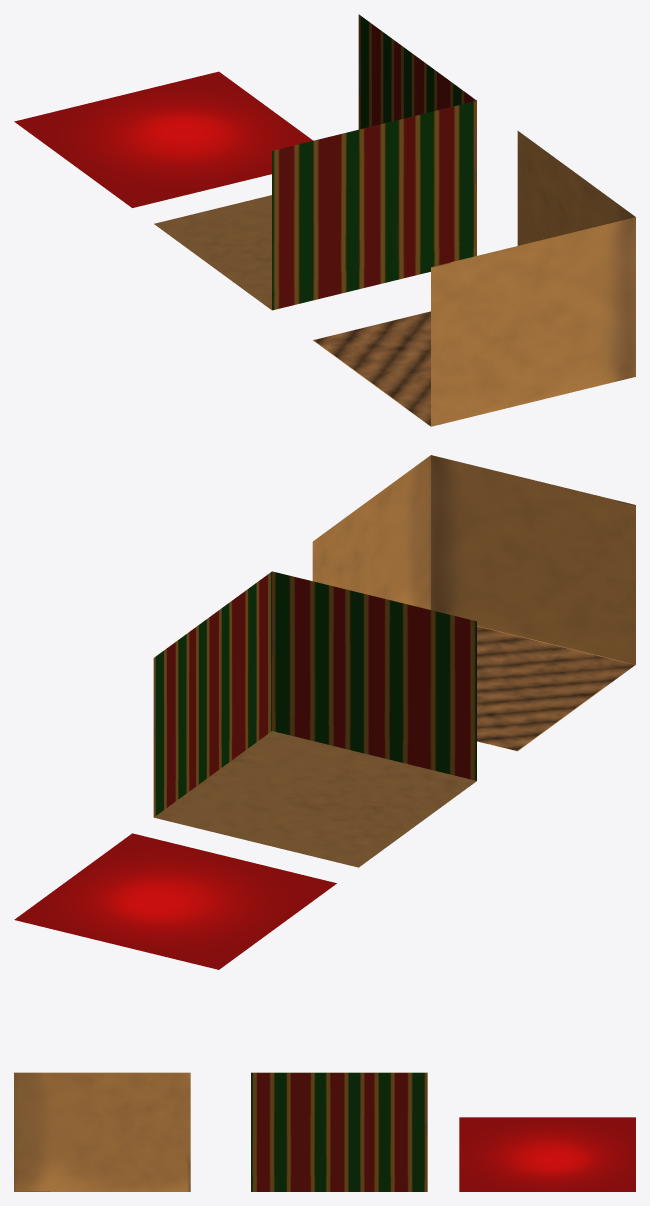
File: scenes.fbx
3 renders of one model, top to bottom at view 1: azimuth 30°, elevation 25°; view 2: azimuth 150°, elevation 25°; view 3: azimuth 270°, elevation 25°, orthographic. The views are drawn at different scales.
Visible parts, largest first — view 1: Scene 1, Scene 2, Scene 3; view 2: Scene 2, Scene 1, Scene 3; view 3: Scene 2, Scene 1, Scene 3.
Boxes of the visible parts, x1,y1,x2,y2 form: Scene 1: [313, 131, 635, 426]; Scene 2: [154, 14, 476, 310]; Scene 3: [14, 71, 312, 207]; Scene 2: [153, 571, 476, 867]; Scene 1: [312, 455, 635, 751]; Scene 3: [14, 833, 336, 969]; Scene 2: [251, 1072, 427, 1191]; Scene 1: [14, 1072, 190, 1191]; Scene 3: [459, 1117, 635, 1191].
Bounding box in the file's own units: 2.92 × 2.17 × 10.28.
